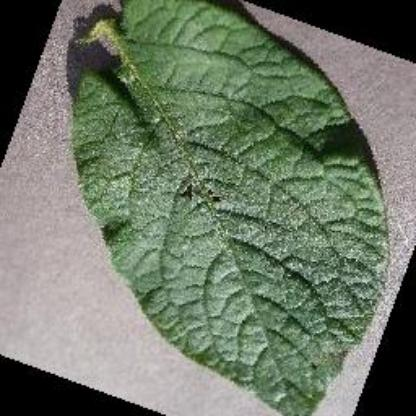Healthy-plant: (69, 0, 390, 414)
